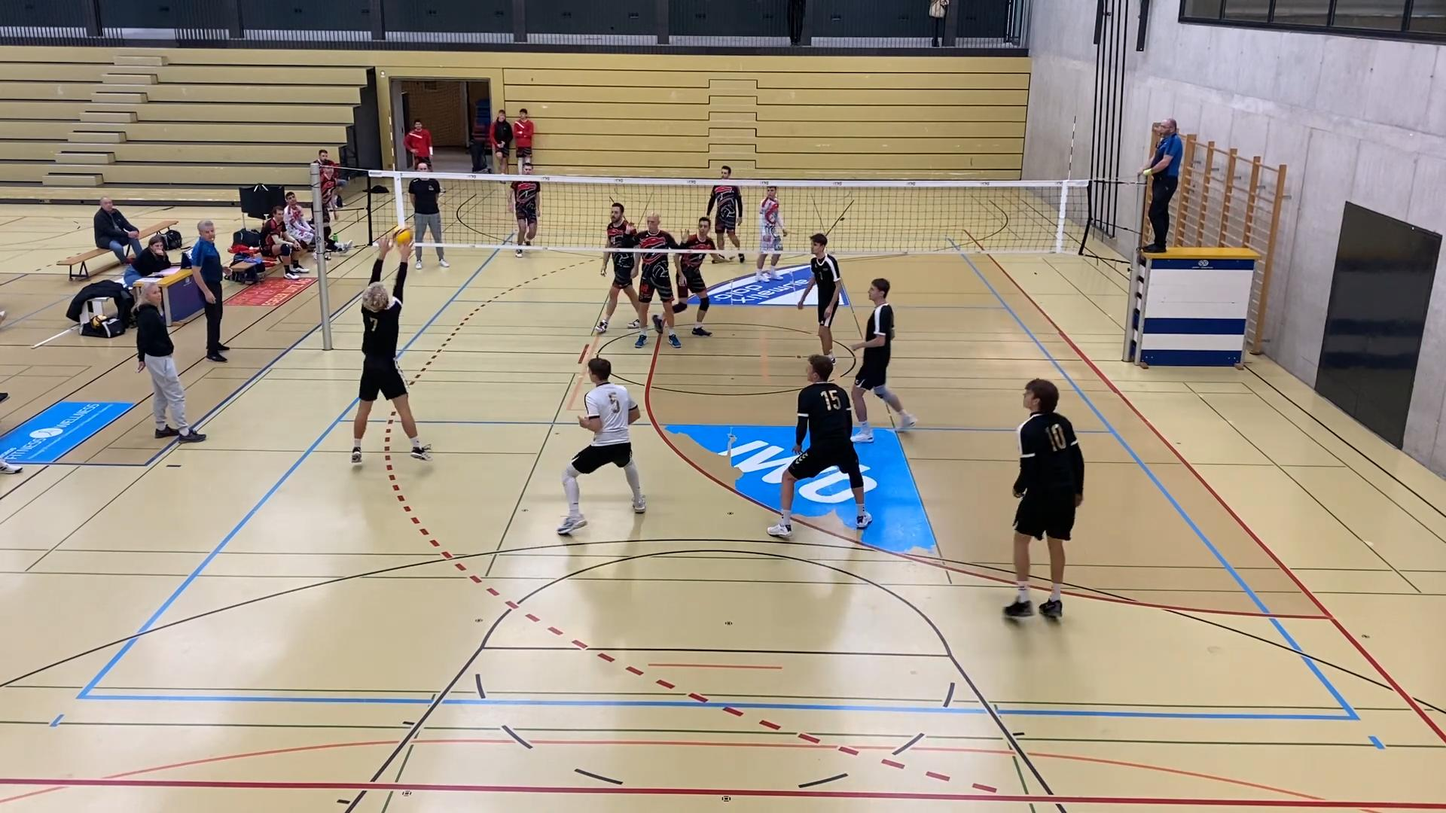Player: (1004, 379, 1084, 617), (767, 355, 871, 538), (557, 358, 645, 534), (850, 278, 916, 442), (633, 212, 680, 347), (595, 202, 638, 333), (797, 233, 840, 360), (672, 218, 716, 336), (705, 165, 745, 262), (755, 185, 787, 279), (509, 178, 539, 245)
Receive: (347, 233, 435, 468)
ball: (392, 225, 418, 249)
